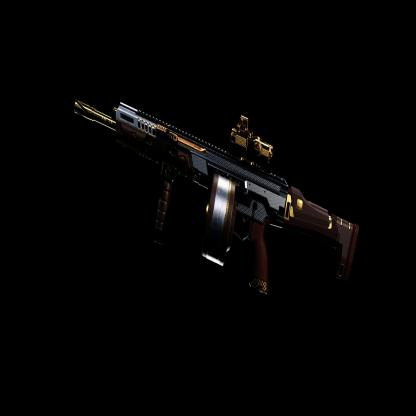rifle: (63, 39, 376, 345)
